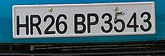2: (43, 14, 57, 35)
3: (100, 12, 114, 33), (140, 11, 153, 32)
4: (127, 12, 140, 32)
5: (113, 12, 126, 32)
6: (56, 14, 68, 34)
B: (73, 13, 87, 35)
H: (16, 14, 30, 36)
P: (86, 12, 100, 33)
R: (29, 13, 43, 35)
